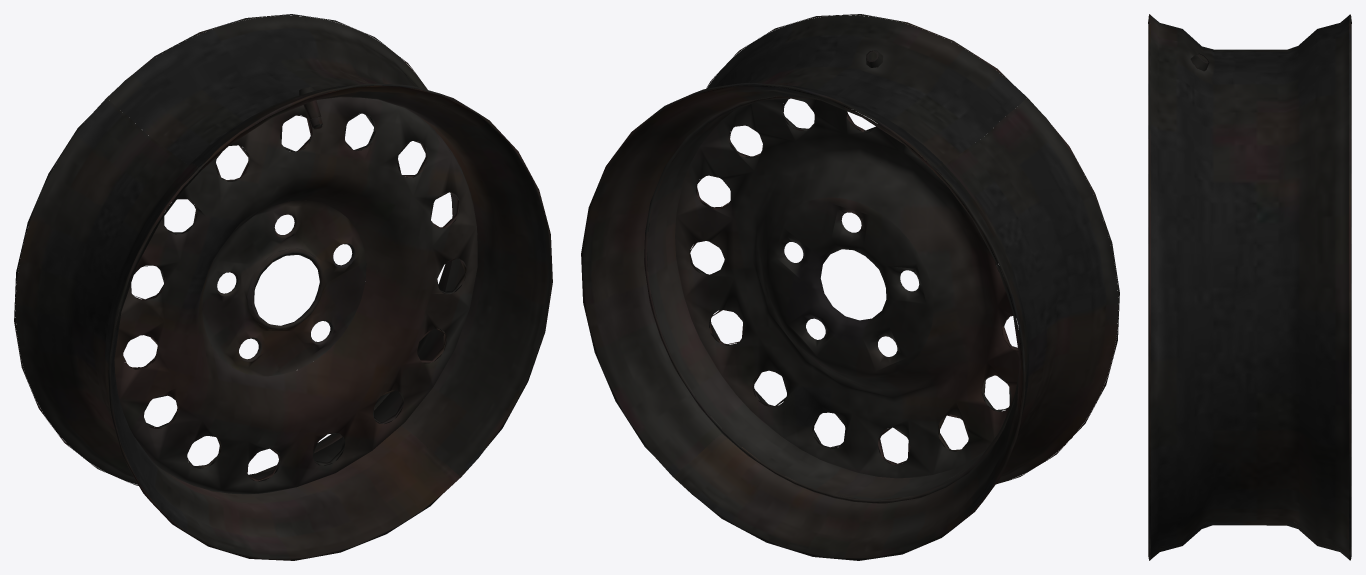
The model's file is rusted_wheel_rim.glb.
3 renders of one model, left to right at view 1: azimuth 30°, elevation 25°; view 2: azimuth 150°, elevation 25°; view 3: azimuth 270°, elevation 25°, orthographic. The views are drawn at different scales.
Visible parts, largest first — view 1: rusted_wheel_rim; view 2: rusted_wheel_rim; view 3: rusted_wheel_rim.
Part boxes in pixels (left/top/right/bottom): rusted_wheel_rim: left=14, top=14, right=552, bottom=560; rusted_wheel_rim: left=581, top=14, right=1119, bottom=560; rusted_wheel_rim: left=1148, top=14, right=1351, bottom=560.
Size of the model in its own units: 0.7534 by 0.7541 by 0.2813.
1 material, 1 textured.
